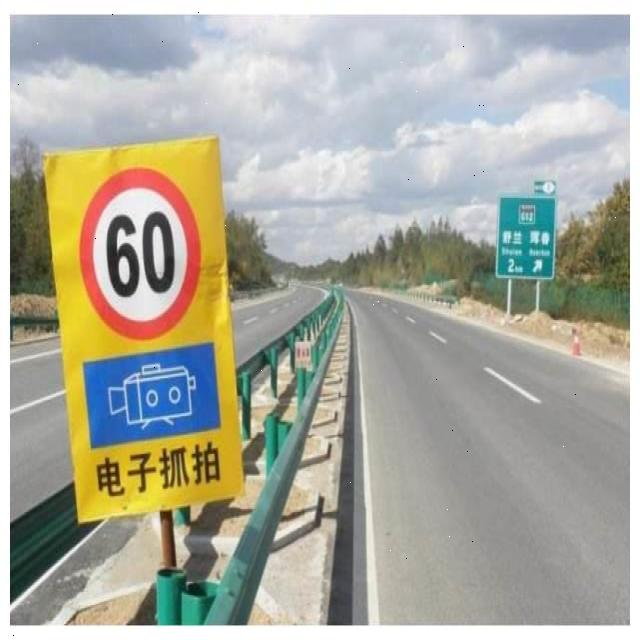speed limit 60: (79, 167, 202, 340)
